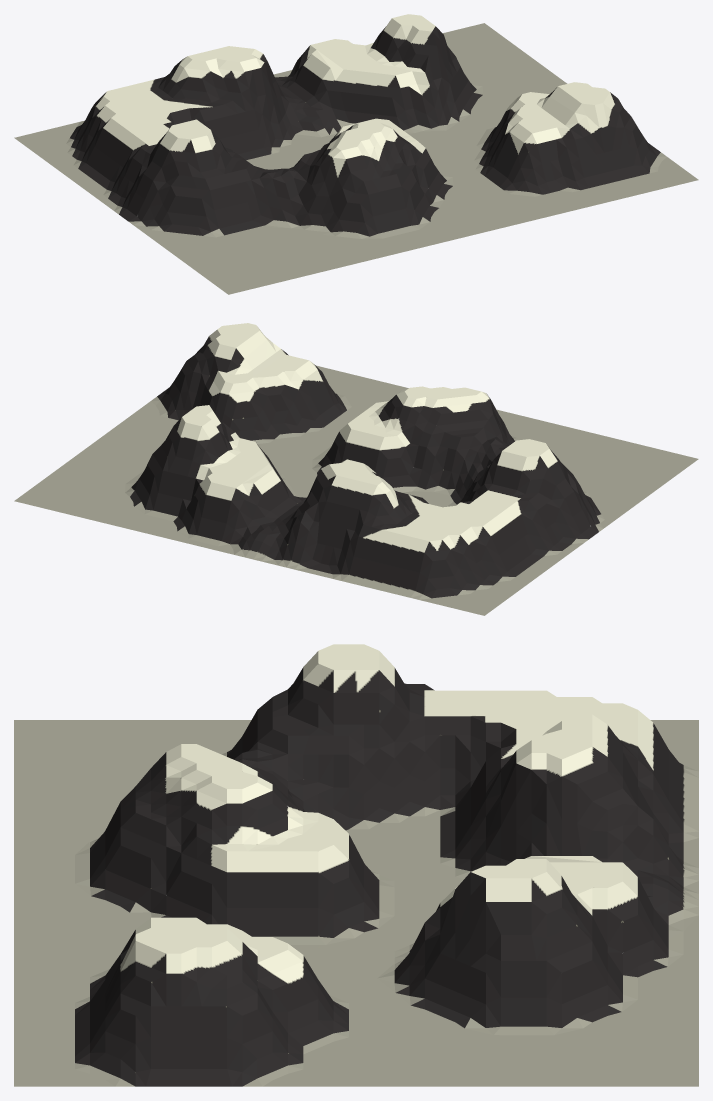
Rendered from Island4.fbx.
3 renders of one model, top to bottom at view 1: azimuth 30°, elevation 25°; view 2: azimuth 150°, elevation 25°; view 3: azimuth 270°, elevation 25°, orthographic. The views are drawn at different scales.
Visible parts, largest first — view 1: Island4; view 2: Island4; view 3: Island4.
Part boxes in pixels (x1=…): Island4: x1=14, y1=14, x2=698, y2=294; Island4: x1=14, y1=323, x2=698, y2=615; Island4: x1=14, y1=644, x2=698, y2=1086.
Size of the model in its own units: 44864 by 6745 by 35418.
